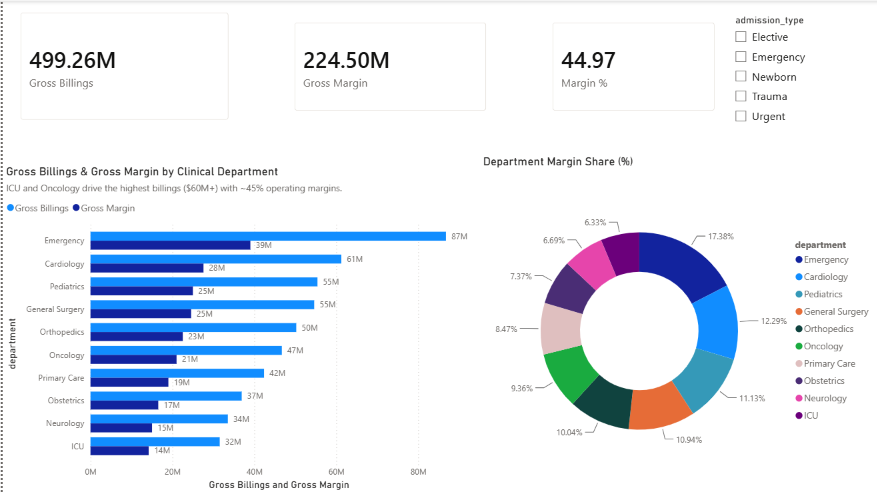

Layout of this report page (visuals, bound fields, positions):
{"tool":"powerbi","page":{"name":"Clinical Quality","canvas":[1280,720],"ordinal":1},"visuals":[{"type":"cardVisual","fields":{"Data":["admissions_features.Gross Billings"]},"box":[9.3,0,338.9,191.8],"z":0},{"type":"cardVisual","fields":{"Data":["admissions_features.Gross Margin"]},"box":[409.7,14.9,314.7,163.9],"z":1000},{"type":"cardVisual","fields":{"Data":["admissions_features.Margin %"]},"box":[785.9,14.9,271.9,163.9],"z":2000},{"type":"clusteredBarChart","title":"Gross Billings & Gross Margin by Clinical Department","fields":{"Category":["admissions_features.department"],"Y":["admissions_features.Gross Billings","admissions_features.Gross Margin"]},"box":[0,240.2,696.5,480.5],"z":3000},{"type":"donutChart","title":" Department Margin Share (%)","fields":{"Category":["admissions_features.department"],"Y":["admissions_features.Gross Margin"]},"box":[696.5,225.3,582.9,495.4],"z":4000},{"type":"slicer","fields":{"Values":["admissions_features.admission_type"]},"box":[1057.8,14.9,221.6,176.9],"z":5000}]}

Visuals, with their boxes in screenshot pixels (x1, y1, x2, y2), scaled from the page's 1280x720 canvas onto the 877x493 screenshot:
cardVisual - admissions_features.Gross Billings: bbox=[6, 0, 239, 131]
cardVisual - admissions_features.Gross Margin: bbox=[281, 10, 496, 122]
cardVisual - admissions_features.Margin %: bbox=[538, 10, 725, 122]
"Gross Billings & Gross Margin by Clinical Department" clusteredBarChart: bbox=[0, 164, 477, 492]
" Department Margin Share (%)" donutChart: bbox=[477, 154, 876, 492]
slicer - admissions_features.admission_type: bbox=[725, 10, 876, 131]
